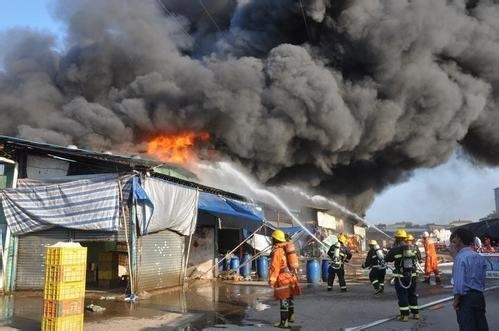fire: (145, 125, 207, 165)
